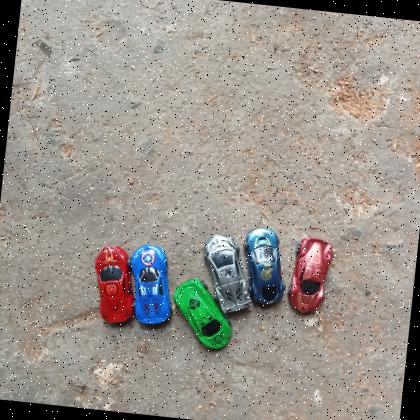Car: (172, 277, 231, 350), (203, 232, 251, 313), (288, 235, 334, 314), (131, 244, 171, 324), (95, 245, 134, 323), (245, 225, 282, 306)
